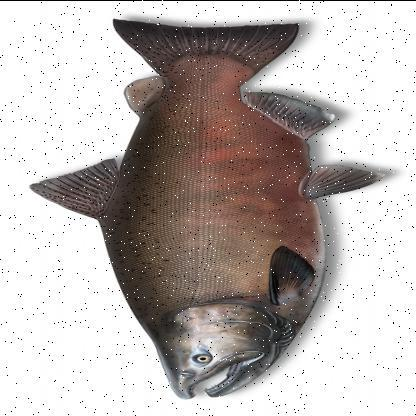fish: (23, 18, 387, 396)
